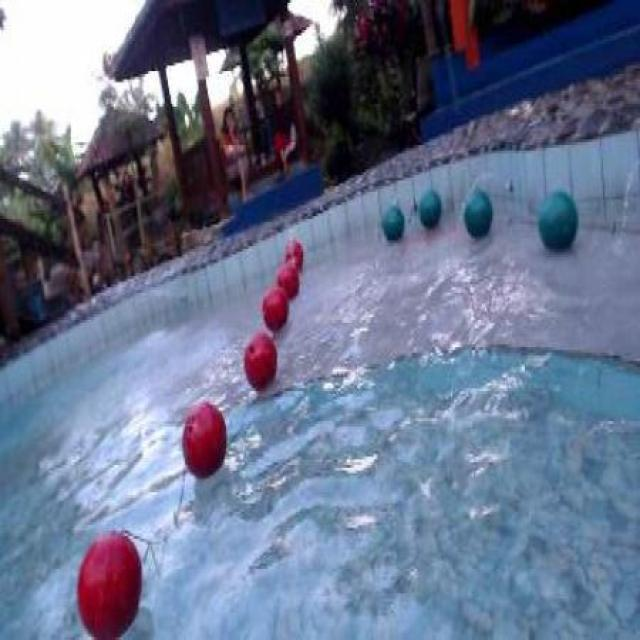buoy: (76, 532, 143, 638), (179, 398, 228, 477), (537, 192, 577, 252), (244, 332, 278, 390), (463, 186, 494, 236), (260, 283, 288, 330), (417, 186, 442, 230), (381, 203, 404, 241), (275, 262, 297, 301), (284, 241, 304, 274)
